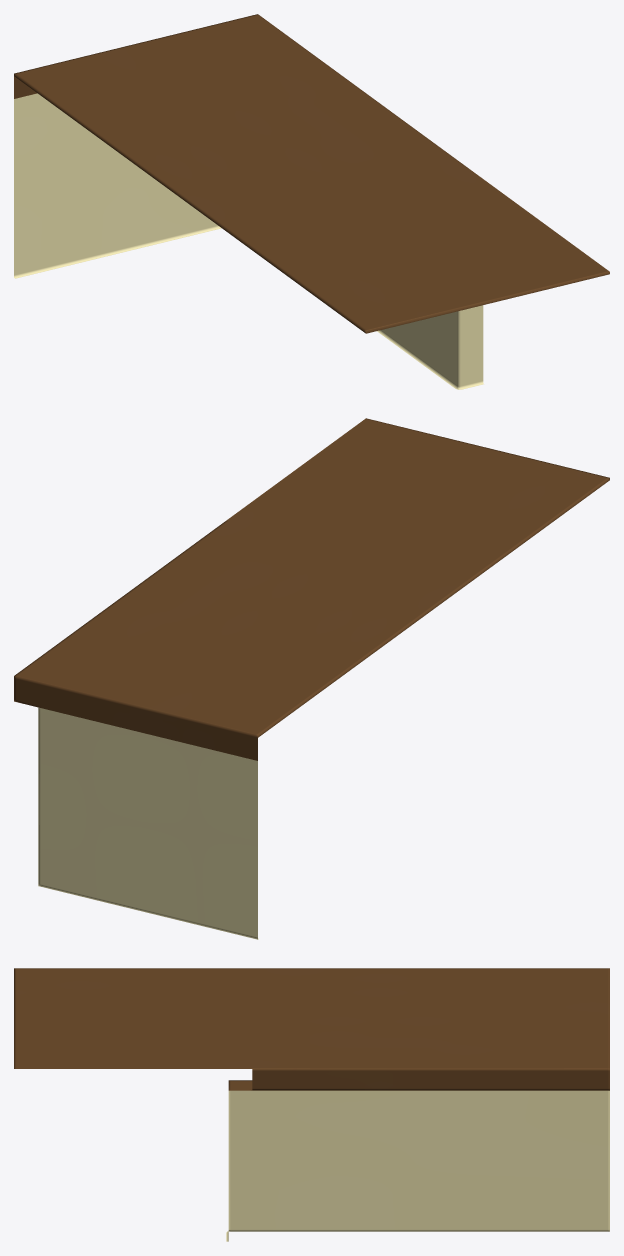
File: SM_WorkingTable_Side.fbx
The picture shows the model from 3 angles, top to bottom: view 1: azimuth 30°, elevation 25°; view 2: azimuth 150°, elevation 25°; view 3: azimuth 270°, elevation 25°; orthographic projection. The views are drawn at different scales.
Visible parts, largest first — view 1: SM_WorkingTable_Side; view 2: SM_WorkingTable_Side; view 3: SM_WorkingTable_Side.
Boxes of the visible parts, <box> form: SM_WorkingTable_Side: <box>14,14,609,389</box>; SM_WorkingTable_Side: <box>14,418,609,939</box>; SM_WorkingTable_Side: <box>14,968,609,1241</box>.
Bounding box in the file's own units: 1 × 0.8 × 2.5.
